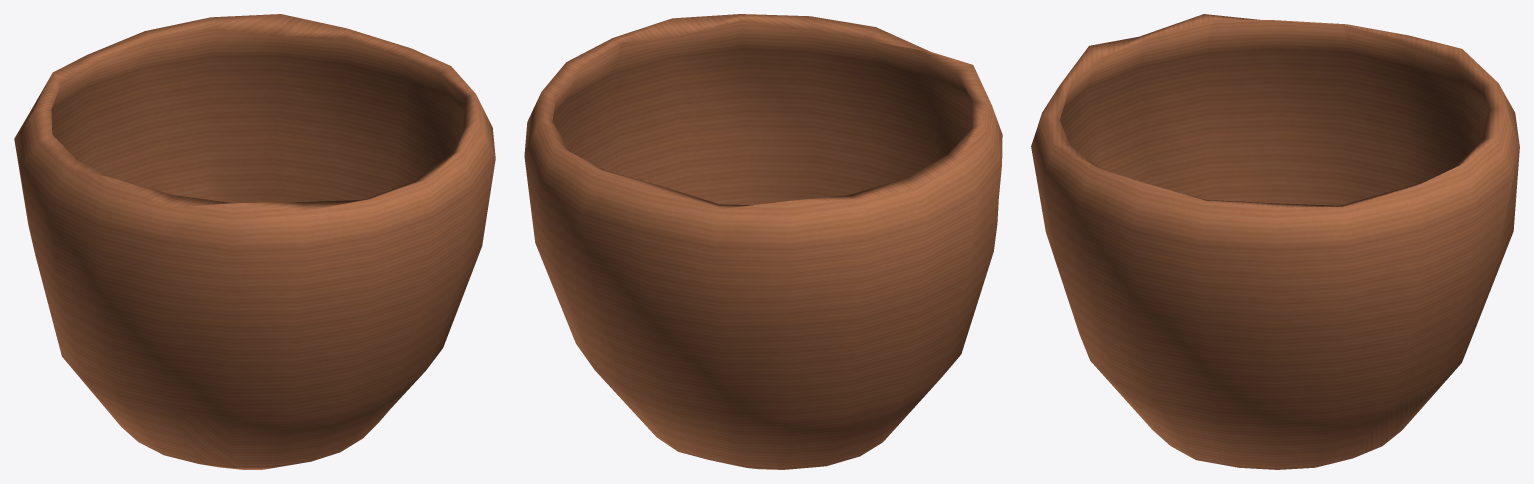
Rendered from deepbowl.glb.
3 views of the same model, side by side, from view 1: azimuth 30°, elevation 25°; view 2: azimuth 150°, elevation 25°; view 3: azimuth 270°, elevation 25° (orthographic). The views are drawn at different scales.
Visible parts, largest first — view 1: deepbowl; view 2: deepbowl; view 3: deepbowl.
Part boxes in pixels (<box>): deepbowl: <box>14,14,495,469</box>; deepbowl: <box>524,14,1002,469</box>; deepbowl: <box>1031,14,1519,469</box>.
Size of the model in its own units: 0.5096 by 0.3879 by 0.5041.
1 material, 1 textured.
